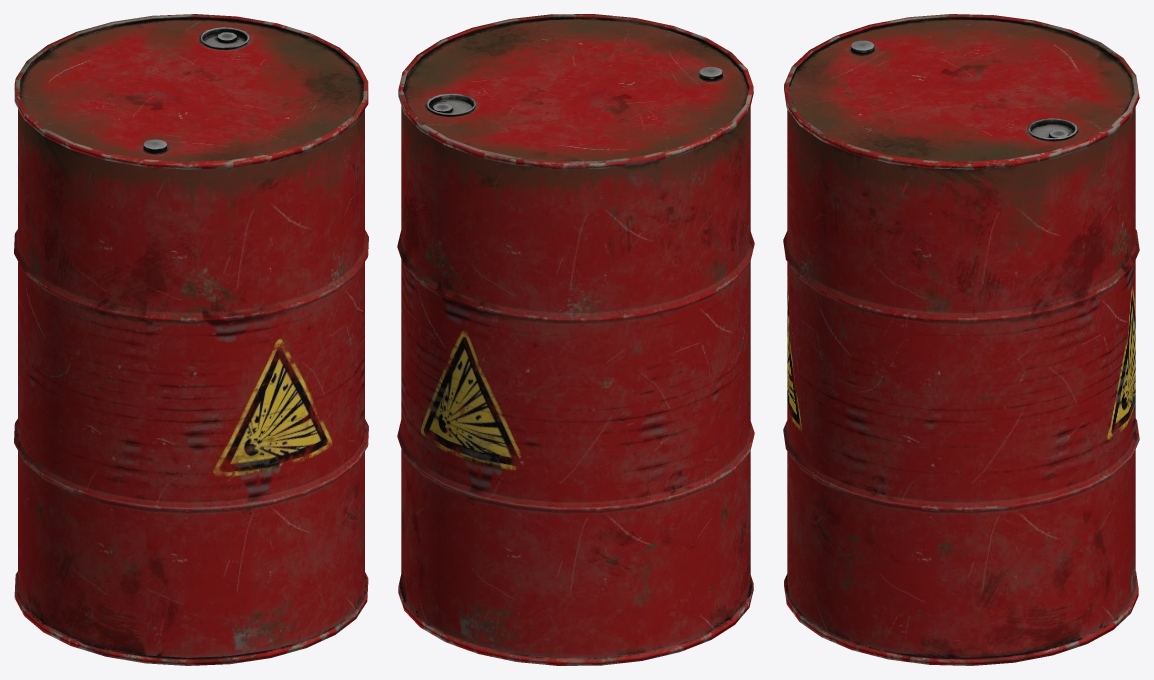
Rendered from Barrel_01.glb.
3 views of the same model, side by side, from view 1: azimuth 30°, elevation 25°; view 2: azimuth 150°, elevation 25°; view 3: azimuth 270°, elevation 25° (orthographic).
Parts seen in each view (by area): view 1: Barrel_01; view 2: Barrel_01; view 3: Barrel_01.
Boxes of the visible parts, bbox=[...] form: Barrel_01: bbox=[14, 14, 368, 665]; Barrel_01: bbox=[397, 14, 754, 665]; Barrel_01: bbox=[783, 14, 1139, 665].
Size of the model in its own units: 0.5629 by 0.88 by 0.5629.
Materials: 1 (1 with a texture image).
